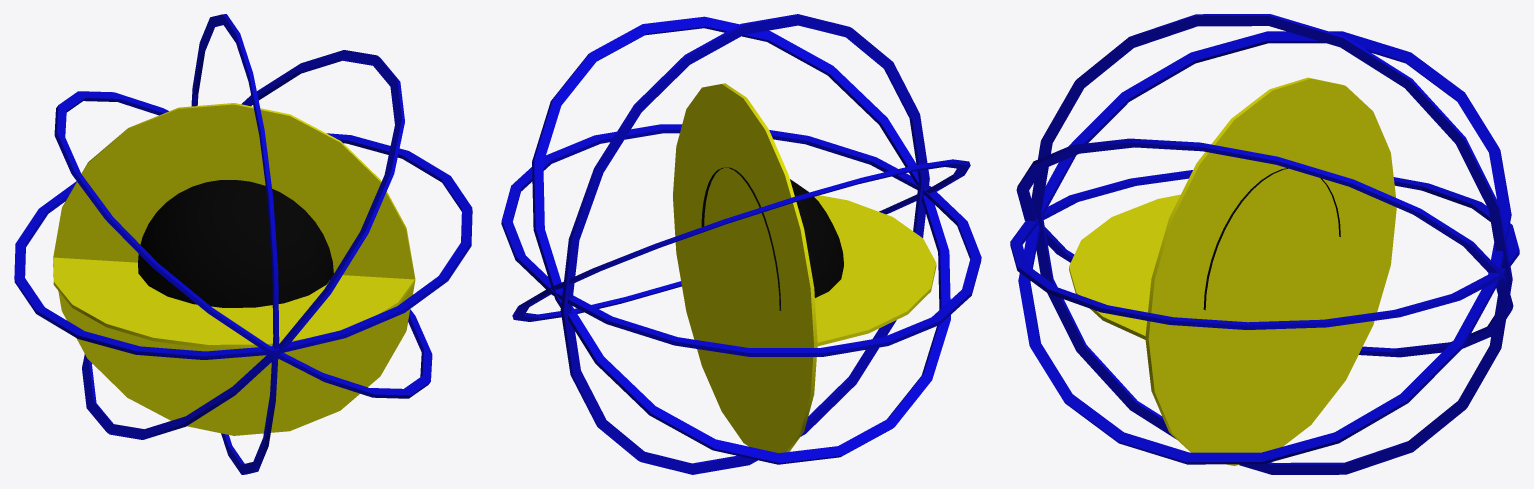
The model's file is blackHole.fbx.
3 views of the same model, side by side, from view 1: azimuth 30°, elevation 25°; view 2: azimuth 150°, elevation 25°; view 3: azimuth 270°, elevation 25° (orthographic). The views are drawn at different scales.
Parts seen in each view (by area): view 1: blackhole; view 2: blackhole; view 3: blackhole.
Boxes of the visible parts, left/top/right/bottom form: blackhole: left=14, top=14, right=472, bottom=474; blackhole: left=501, top=14, right=981, bottom=474; blackhole: left=1010, top=14, right=1519, bottom=474.
Size of the model in its own units: 4.6 by 4.64 by 4.63.
